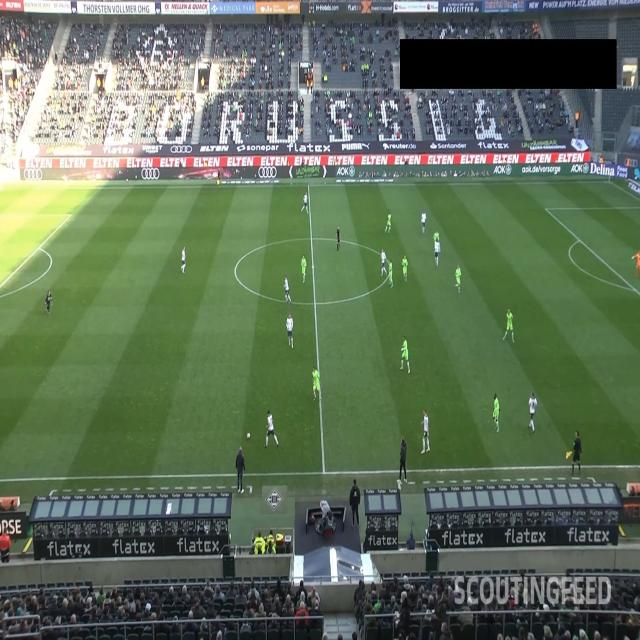ball: (246, 432, 251, 440)
